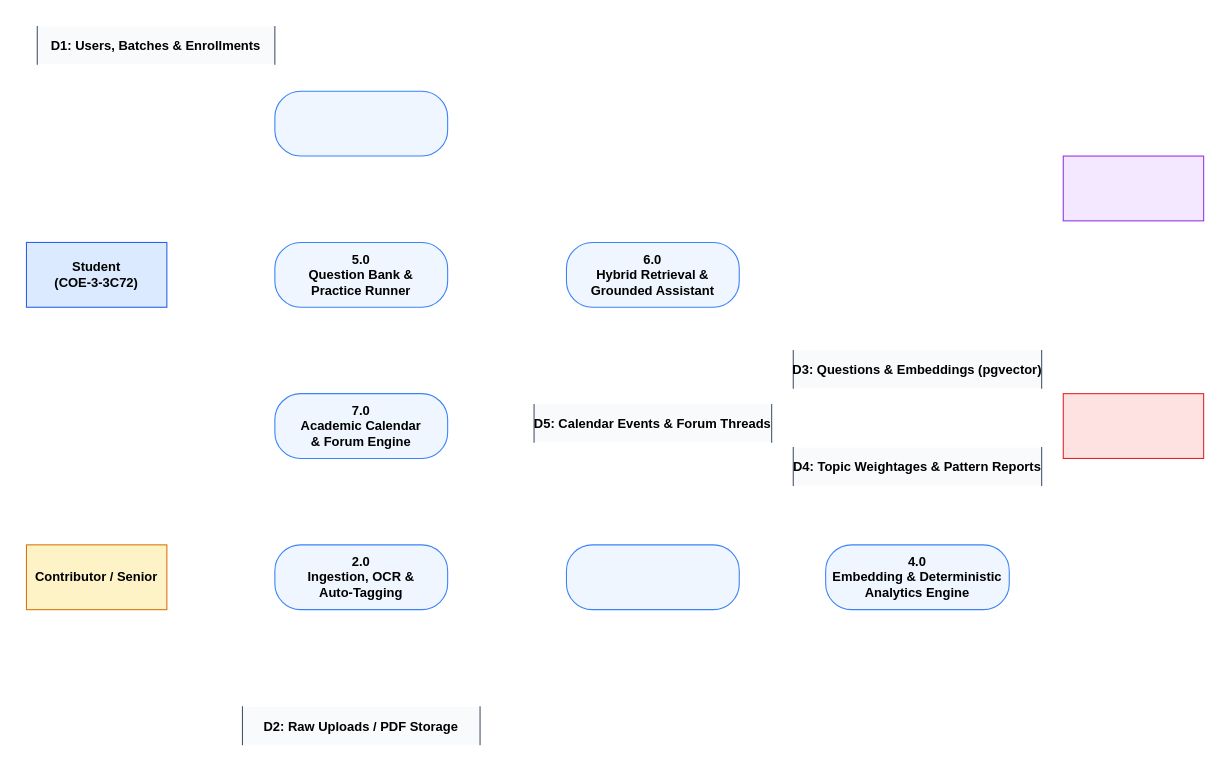
This 1223x764 diagram has some shape labels left out. The centre of each missing label's shape, as x and y in pixels:
1.0 Auth & Batch Context Filtering: [361,123]
3.0 Moderator Review & Queue Verification: [652,577]
Gemini LLM API: [1133,188]
Moderator / CR: [1133,425]
